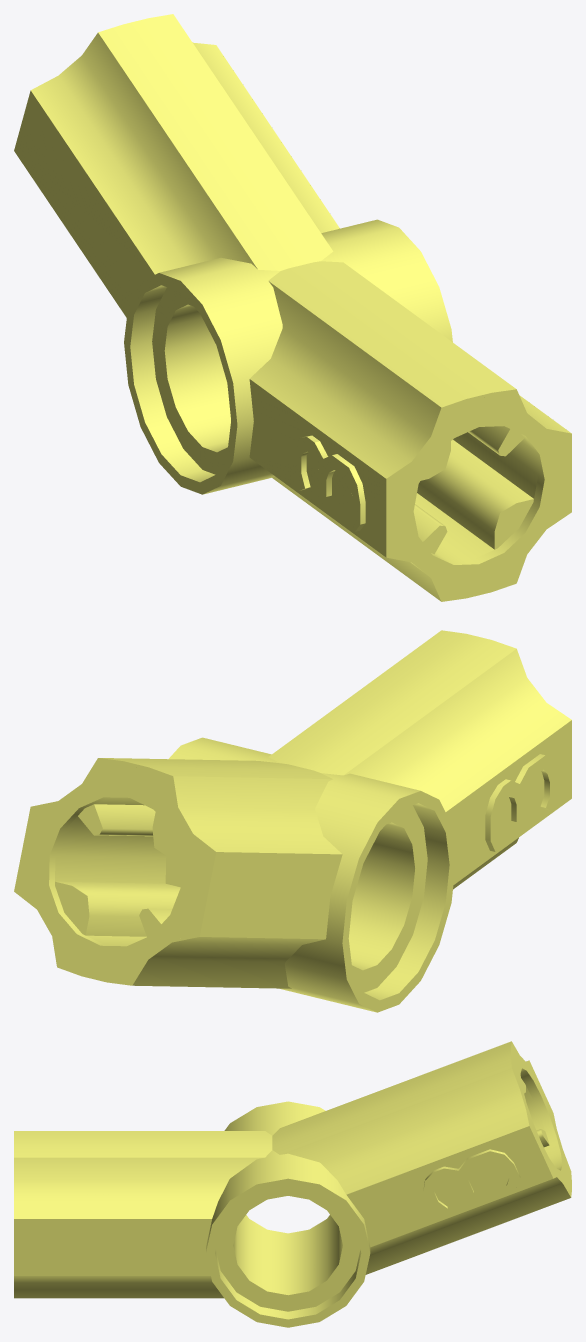
3 views of the same model, one above another, from view 1: azimuth 30°, elevation 25°; view 2: azimuth 150°, elevation 25°; view 3: azimuth 270°, elevation 25° (orthographic). The views are drawn at different scales.
Parts seen in each view (by area): view 1: 32016.dat; view 2: 32016.dat; view 3: 32016.dat.
Part boxes in pixels (box(x1,y1,x2,y2)): 32016.dat: box(14, 14, 571, 601); 32016.dat: box(14, 630, 571, 1012); 32016.dat: box(14, 1041, 571, 1327).
Bounding box in the file's own units: 0.008 × 0.0114 × 0.0244.
